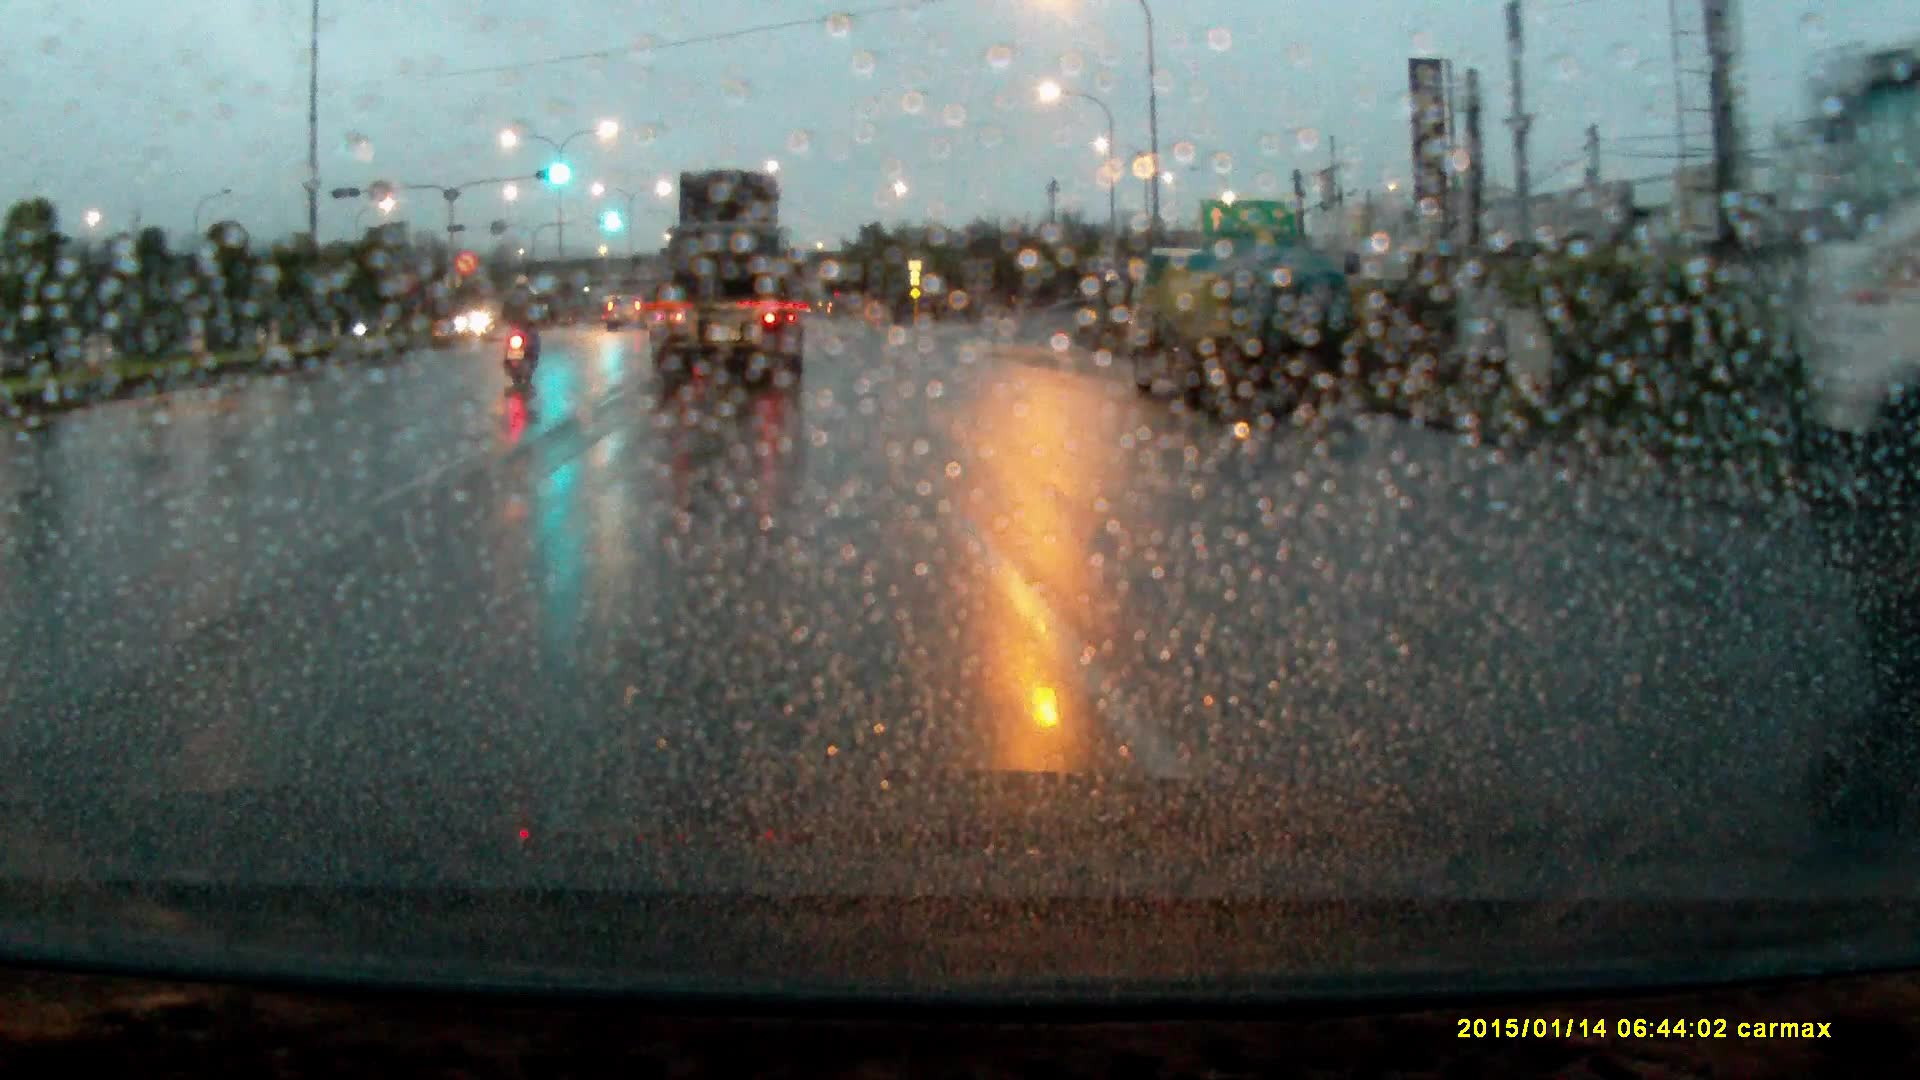rider: (500, 272, 549, 389)
vehicle: (1122, 243, 1367, 422), (648, 167, 809, 397), (606, 295, 646, 332)
